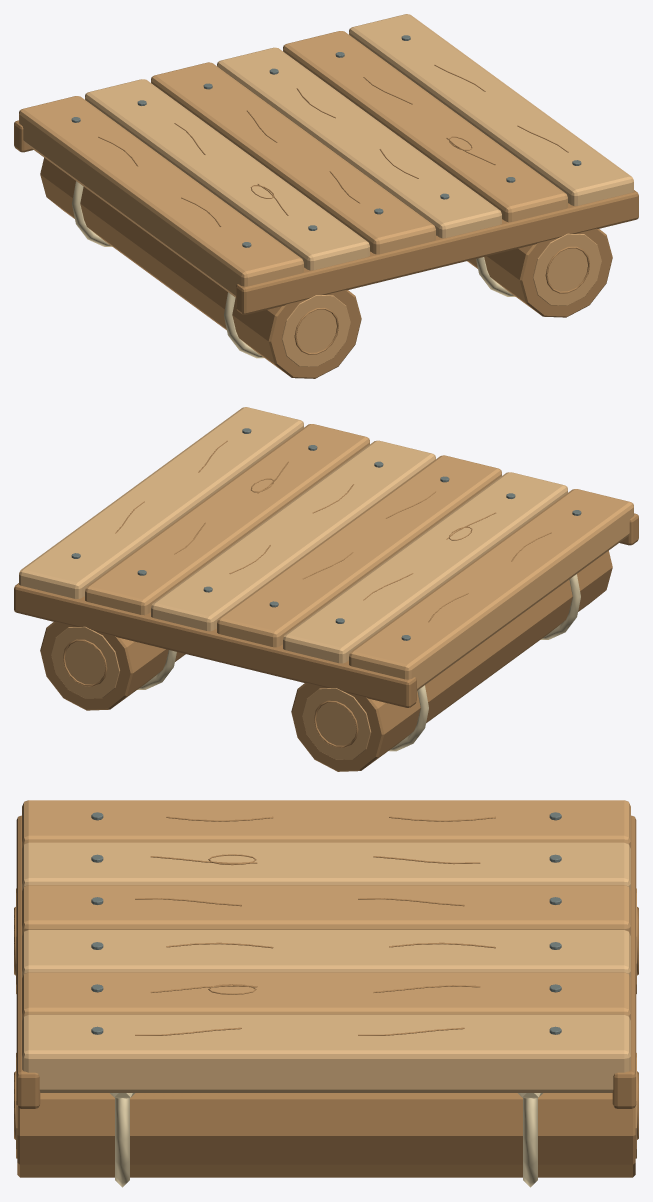
The model's file is DeckTile.fbx.
3 views of the same model, one above another, from view 1: azimuth 30°, elevation 25°; view 2: azimuth 150°, elevation 25°; view 3: azimuth 270°, elevation 25° (orthographic). The views are drawn at different scales.
Parts seen in each view (by area): view 1: Rounded plank, Rounded plank.002, Rounded plank.005, Rounded plank.001, Rounded plank.004, Rounded plank.003, Braced underside rail.001, Twelve-sided buoyant log, Twelve-sided buoyant log.001, End grain.003, End grain.001, Braided float binding.001 (+1 smaller); view 2: Rounded plank, Rounded plank.005, Rounded plank.002, Rounded plank.001, Rounded plank.004, Rounded plank.003, Braced underside rail, Twelve-sided buoyant log, Twelve-sided buoyant log.001, End grain.002, End grain, Braided float binding (+1 smaller); view 3: Twelve-sided buoyant log.001, Rounded plank.005, Rounded plank.002, Rounded plank.003, Rounded plank, Rounded plank.001, Rounded plank.004, Braced underside rail, Braced underside rail.001, Braided float binding.002, Braided float binding.003.
Boxes of the visible parts, <box> form: Rounded plank: <box>19,96,303,297</box>; Rounded plank.002: <box>151,62,435,254</box>; Rounded plank.005: <box>349,14,633,205</box>; Rounded plank.001: <box>85,79,369,270</box>; Rounded plank.004: <box>283,31,567,222</box>; Rounded plank.003: <box>217,47,501,238</box>; Braced underside rail.001: <box>236,190,638,314</box>; Twelve-sided buoyant log: <box>40,157,361,378</box>; Twelve-sided buoyant log.001: <box>467,228,612,317</box>; End grain.003: <box>533,233,601,305</box>; End grain.001: <box>281,295,350,366</box>; Braided float binding.001: <box>224,292,263,358</box>; Rounded plank: <box>349,489,633,690</box>; Rounded plank.005: <box>19,407,303,598</box>; Rounded plank.002: <box>217,455,501,647</box>; Rounded plank.001: <box>283,472,567,663</box>; Rounded plank.004: <box>85,424,369,615</box>; Rounded plank.003: <box>151,440,435,631</box>; Braced underside rail: <box>14,583,416,707</box>; Twelve-sided buoyant log: <box>291,550,612,771</box>; Twelve-sided buoyant log.001: <box>40,621,185,710</box>; End grain.002: <box>51,626,119,698</box>; End grain: <box>302,688,371,759</box>; Braided float binding: <box>389,685,428,751</box>; Twelve-sided buoyant log.001: <box>17,1093,635,1177</box>; Rounded plank.005: <box>22,1014,630,1092</box>; Rounded plank.002: <box>22,885,630,935</box>; Rounded plank.003: <box>22,930,630,977</box>; Rounded plank: <box>22,800,630,848</box>; Rounded plank.001: <box>22,842,630,890</box>; Rounded plank.004: <box>22,972,630,1020</box>; Braced underside rail: <box>612,815,636,1108</box>; Braced underside rail.001: <box>16,815,40,1108</box>; Braided float binding.002: <box>523,1098,537,1187</box>; Braided float binding.003: <box>115,1098,129,1187</box>.
Size of the model in its own units: 196 by 62.2 by 199.
